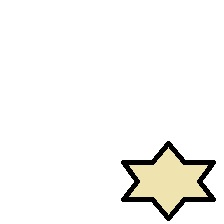star: (121, 141, 215, 221)
